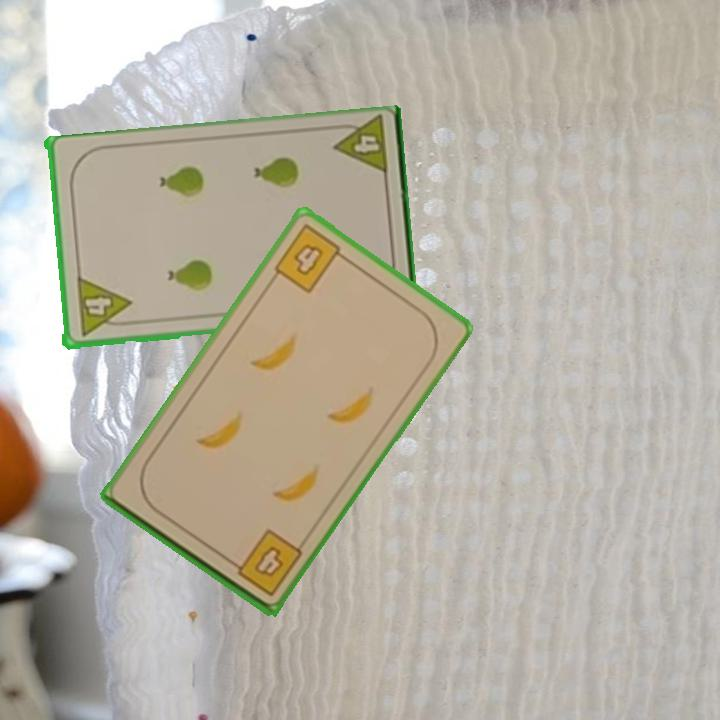4b: (270, 220, 351, 296), (224, 525, 306, 599)
4p: (328, 115, 391, 180), (72, 275, 134, 340)
